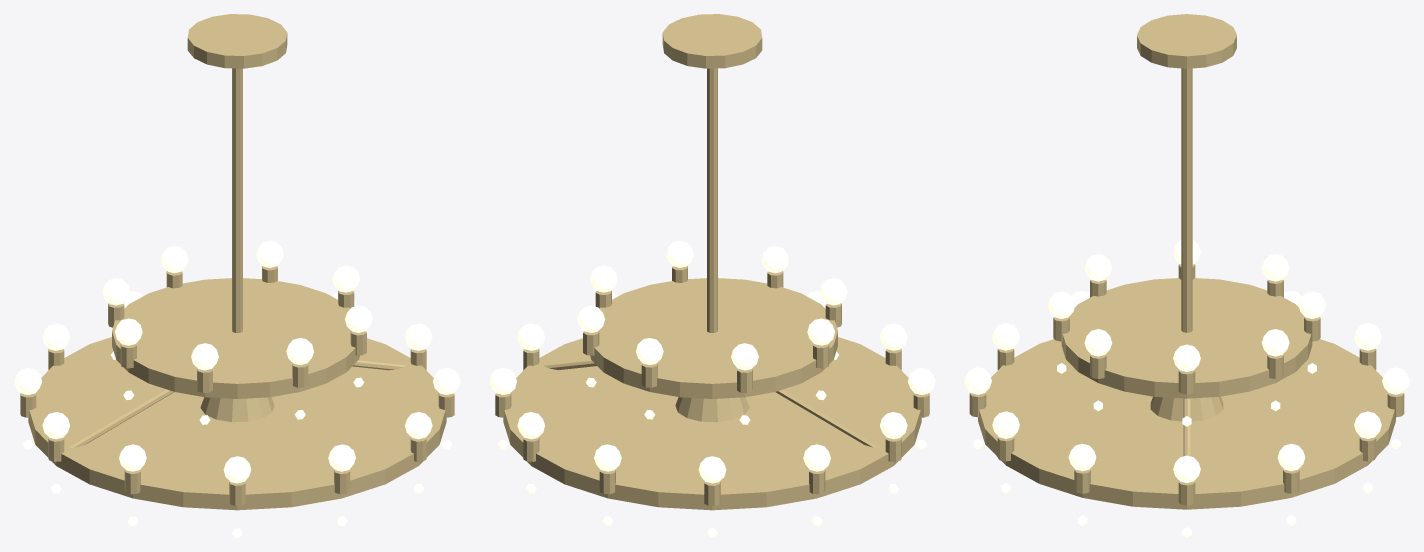
File: chandelier.glb
3 renders of one model, left to right at view 1: azimuth 30°, elevation 25°; view 2: azimuth 150°, elevation 25°; view 3: azimuth 270°, elevation 25°, orthographic.
Parts seen in each view (by area): view 1: chandelier_gold, chandelier_lamp_glass; view 2: chandelier_gold, chandelier_lamp_glass; view 3: chandelier_gold, chandelier_lamp_glass.
Boxes of the visible parts, x1,y1,x2,y2 form: chandelier_gold: (20,14,454,510); chandelier_lamp_glass: (14,240,460,537); chandelier_gold: (495,14,929,510); chandelier_lamp_glass: (489,240,935,537); chandelier_gold: (969,14,1404,509); chandelier_lamp_glass: (964,240,1409,537).
Bounding box in the file's own units: 1.6 × 1.85 × 1.6.
